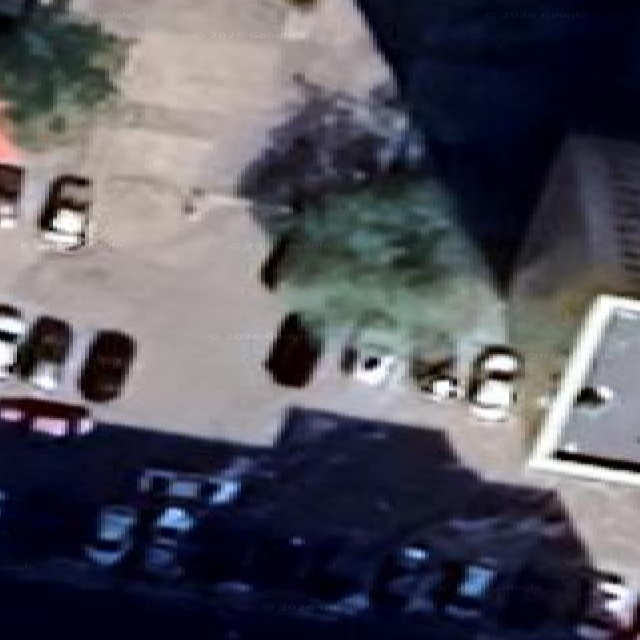car: (138, 457, 251, 508), (576, 572, 639, 639), (264, 313, 321, 387), (467, 346, 523, 421), (78, 330, 135, 402), (18, 316, 72, 391), (38, 175, 92, 250), (373, 542, 433, 609), (0, 397, 94, 438), (145, 505, 195, 578), (340, 327, 399, 386), (84, 505, 139, 567), (444, 562, 497, 619), (411, 356, 459, 401), (469, 376, 514, 421), (0, 305, 25, 379), (353, 347, 397, 386), (0, 164, 23, 228), (0, 0, 36, 23), (0, 490, 6, 521)
